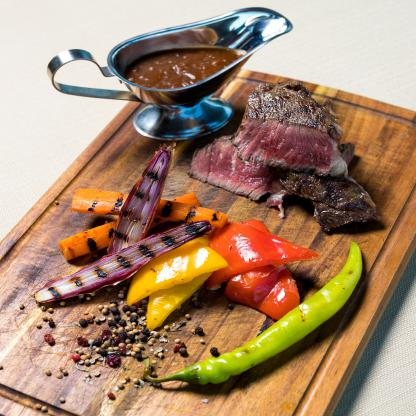Carne: (234, 79, 358, 172), (276, 166, 395, 234), (182, 137, 278, 201)
